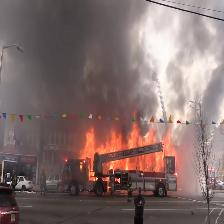fire: (85, 139, 168, 172)
smoke: (13, 0, 147, 130)
